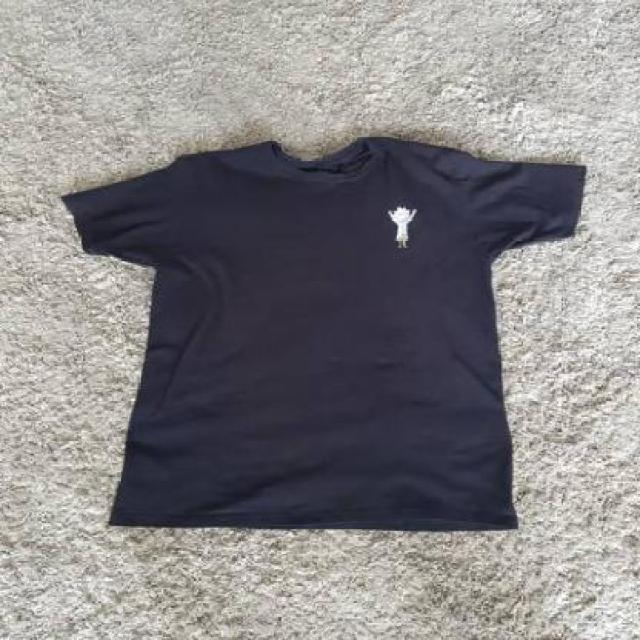shirt: (59, 129, 596, 545)
